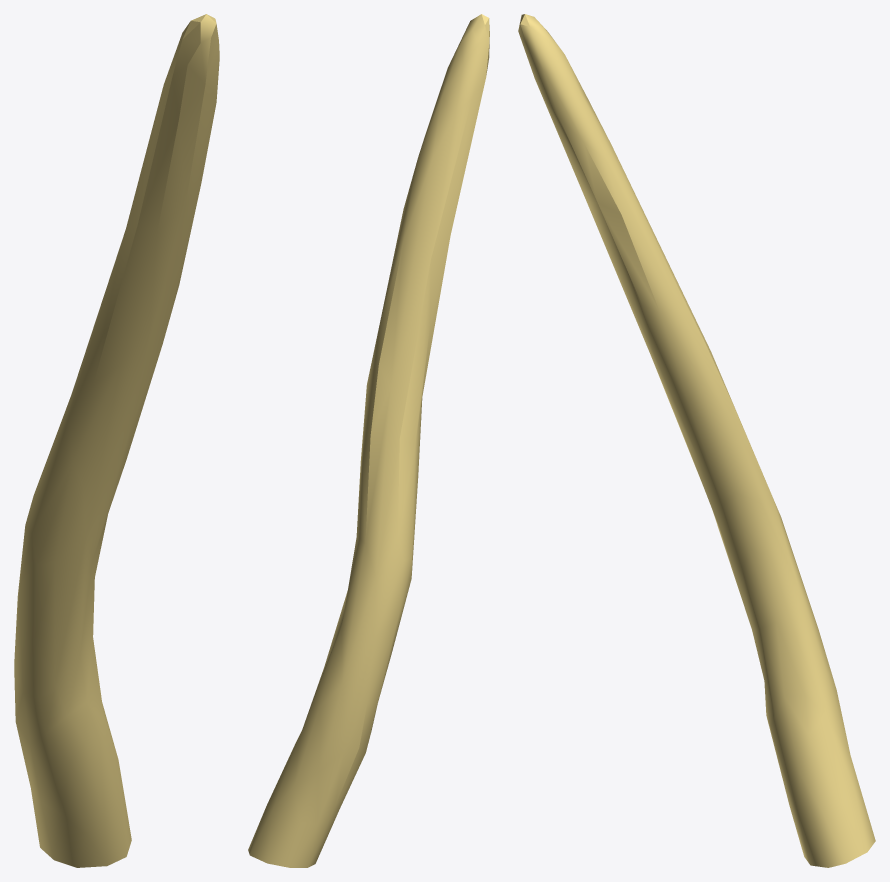
The model's file is fma54570_mm2716.glb.
3 views of the same model, side by side, from view 1: azimuth 30°, elevation 25°; view 2: azimuth 150°, elevation 25°; view 3: azimuth 270°, elevation 25° (orthographic). The views are drawn at different scales.
Visible parts, largest first — view 1: FMA54570_MM2716; view 2: FMA54570_MM2716; view 3: FMA54570_MM2716.
Part boxes in pixels (x1=…): FMA54570_MM2716: x1=14, y1=14, x2=219, y2=867; FMA54570_MM2716: x1=248, y1=14, x2=489, y2=867; FMA54570_MM2716: x1=518, y1=14, x2=875, y2=867.
Bounding box in the file's own units: 0.0023 × 0.0143 × 0.00569.
